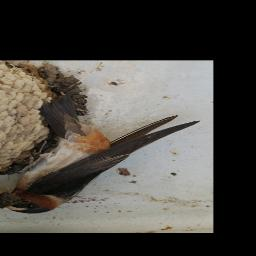Swallow: (0, 114, 202, 214)
